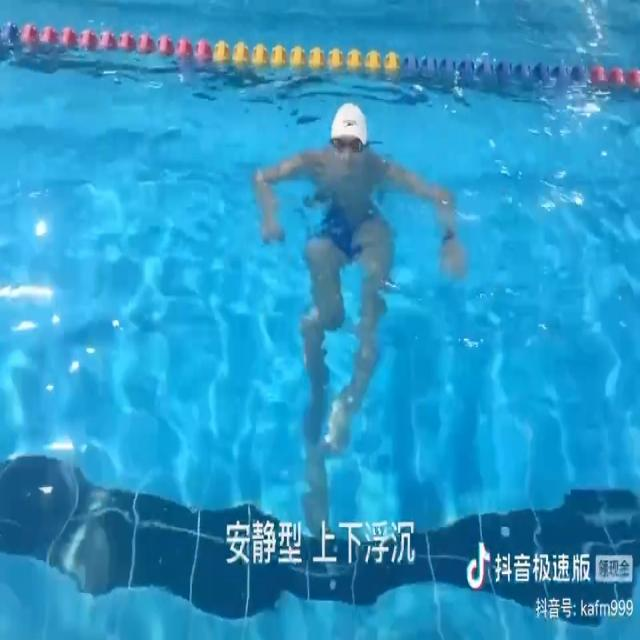Drowning: (255, 101, 466, 504)
